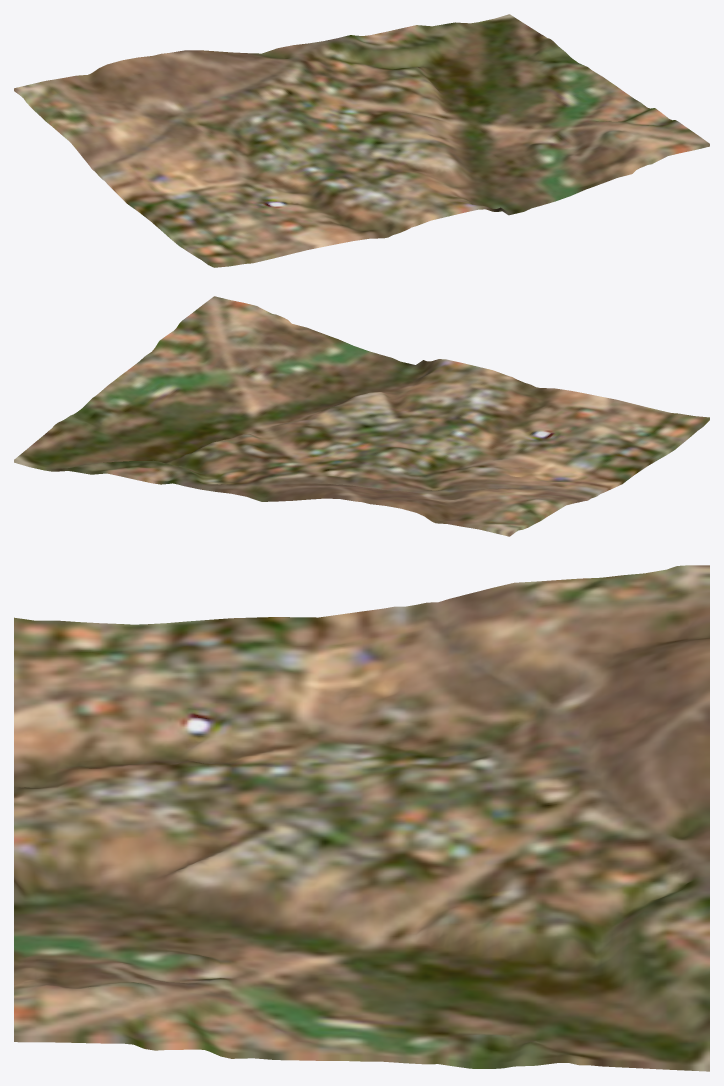
Rendered from terrain_r1_c0_lod1.glb.
3 views of the same model, one above another, from view 1: azimuth 30°, elevation 25°; view 2: azimuth 150°, elevation 25°; view 3: azimuth 270°, elevation 25° (orthographic). The views are drawn at different scales.
Visible parts, largest first — view 1: terrain_r1_c0_lod1; view 2: terrain_r1_c0_lod1; view 3: terrain_r1_c0_lod1.
Boxes of the visible parts, box(x1,y1,x2,y2) form: terrain_r1_c0_lod1: box(14, 14, 709, 267); terrain_r1_c0_lod1: box(14, 296, 709, 536); terrain_r1_c0_lod1: box(14, 565, 709, 1071).
Bounding box in the file's own units: 1125 × 117 × 787.
Materials: 1 (1 with a texture image).
